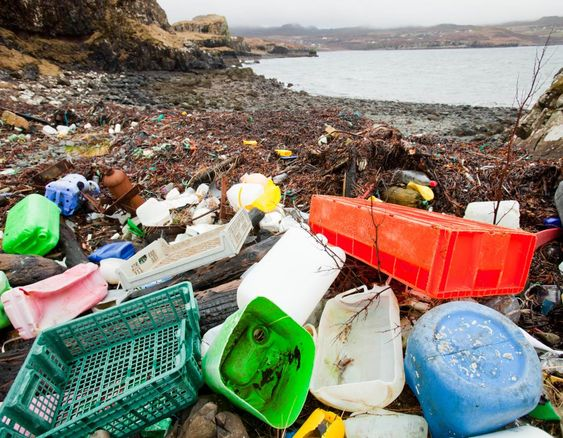Metal: (403, 296, 546, 435), (205, 294, 324, 433), (311, 281, 410, 415), (235, 224, 346, 318), (14, 261, 111, 345), (4, 191, 55, 260)
